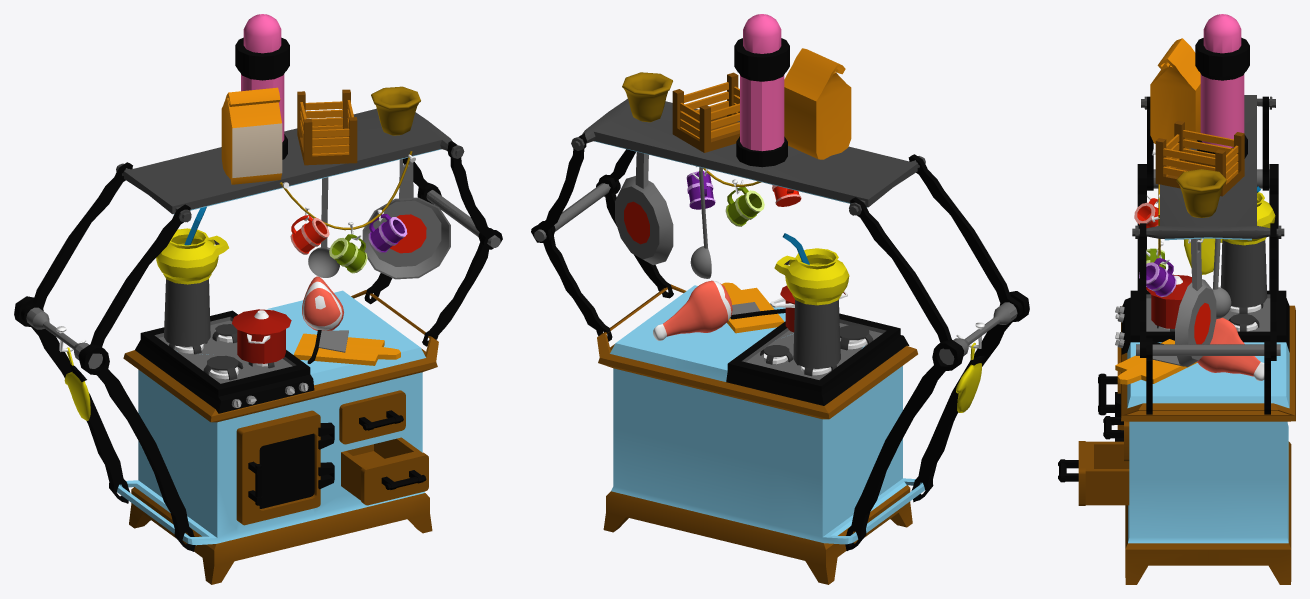
File: FoodTruck-transformed.glb
The picture shows the model from 3 angles, left to right: view 1: azimuth 30°, elevation 25°; view 2: azimuth 150°, elevation 25°; view 3: azimuth 270°, elevation 25°; orthographic projection.
Visible parts, largest first — view 1: Cube_Material.001_0, Cube.010, Cube.008, Cylinder.019, Cube.019, Cylinder.020, Cylinder.025, Cylinder.001, Cube.016, Cube.013, Cube.015, Cylinder (+11 smaller); view 2: Cube_Material.001_0, Cube.010, Cube.008, Cylinder.025, Cube.019, Cylinder.019, Cylinder.020, Cube.020, Cube.016, Cylinder, Cube.015, Cube.018 (+6 smaller); view 3: Cube_Material.001_0, Cube.008, Cylinder.025, Cube.010, Cube.019, Cylinder.019, Cylinder.020, Cube.016, Cube.020, Cube.015, Cube.018, Cylinder (+8 smaller).
Boxes of the visible parts, box(x1,y1,x2,y2) form: Cube_Material.001_0: box(117, 290, 438, 584); Cube.010: box(14, 141, 502, 551); Cube.008: box(116, 108, 464, 222); Cylinder.019: box(156, 228, 228, 346); Cube.019: box(221, 87, 282, 184); Cylinder.020: box(362, 159, 450, 279); Cylinder.025: box(235, 14, 289, 159); Cylinder.001: box(232, 309, 291, 363); Cube.016: box(300, 100, 353, 156); Cube.013: box(293, 333, 400, 365); Cube.015: box(297, 89, 357, 165); Cylinder: box(26, 190, 500, 368); Cube_Material.001_0: box(597, 284, 924, 584); Cube.010: box(531, 133, 1029, 550); Cube.008: box(571, 98, 925, 215); Cylinder.025: box(734, 14, 789, 167); Cube.019: box(784, 48, 851, 159); Cylinder.019: box(774, 248, 849, 368); Cylinder.020: box(615, 152, 673, 265); Cube.020: box(653, 280, 732, 340); Cube.016: box(680, 82, 739, 141); Cylinder: box(534, 183, 1017, 364); Cube.015: box(672, 72, 739, 152); Cube.018: box(622, 72, 672, 122); Cube_Material.001_0: box(1078, 290, 1295, 584); Cube.008: box(1132, 95, 1284, 240); Cylinder.025: box(1195, 14, 1249, 158); Cube.010: box(1137, 96, 1278, 414); Cube.019: box(1150, 38, 1200, 148); Cylinder.019: box(1220, 192, 1275, 307); Cylinder.020: box(1175, 238, 1216, 367); Cube.016: box(1163, 130, 1238, 184); Cube.020: box(1197, 317, 1264, 380); Cube.015: box(1155, 120, 1244, 196); Cube.018: box(1176, 169, 1226, 217); Cylinder: box(1136, 169, 1280, 355).
Size of the model in its own units: 9.14 by 10.59 by 4.47.
1 material, 1 textured.
